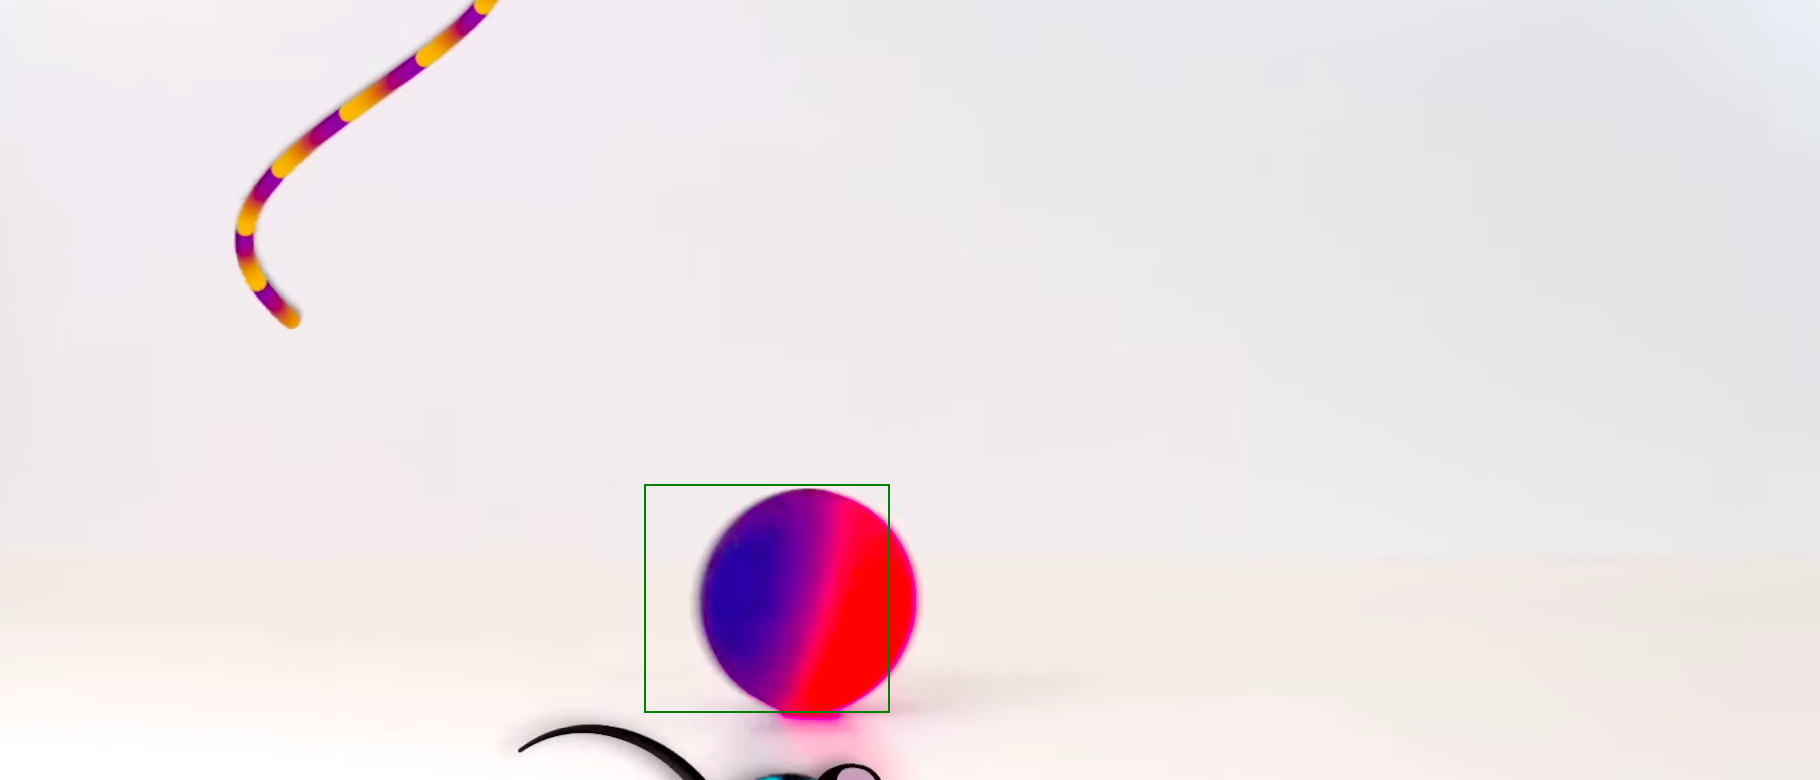Circle: (696, 488, 925, 722)
